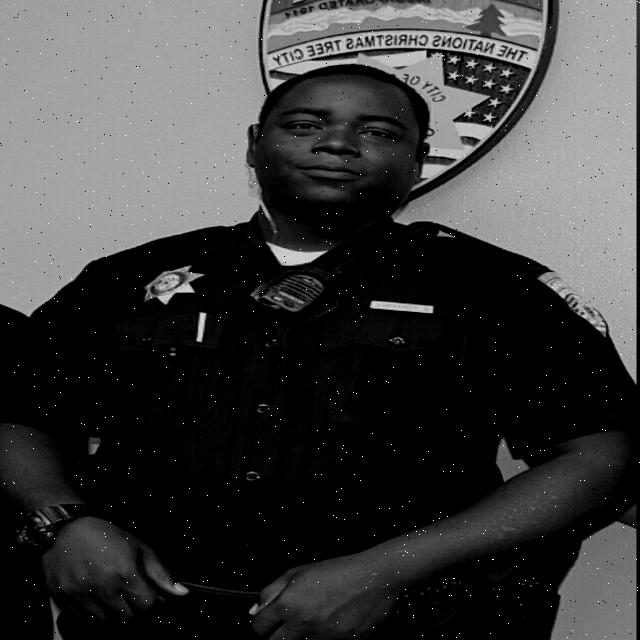police: (7, 33, 640, 640)
